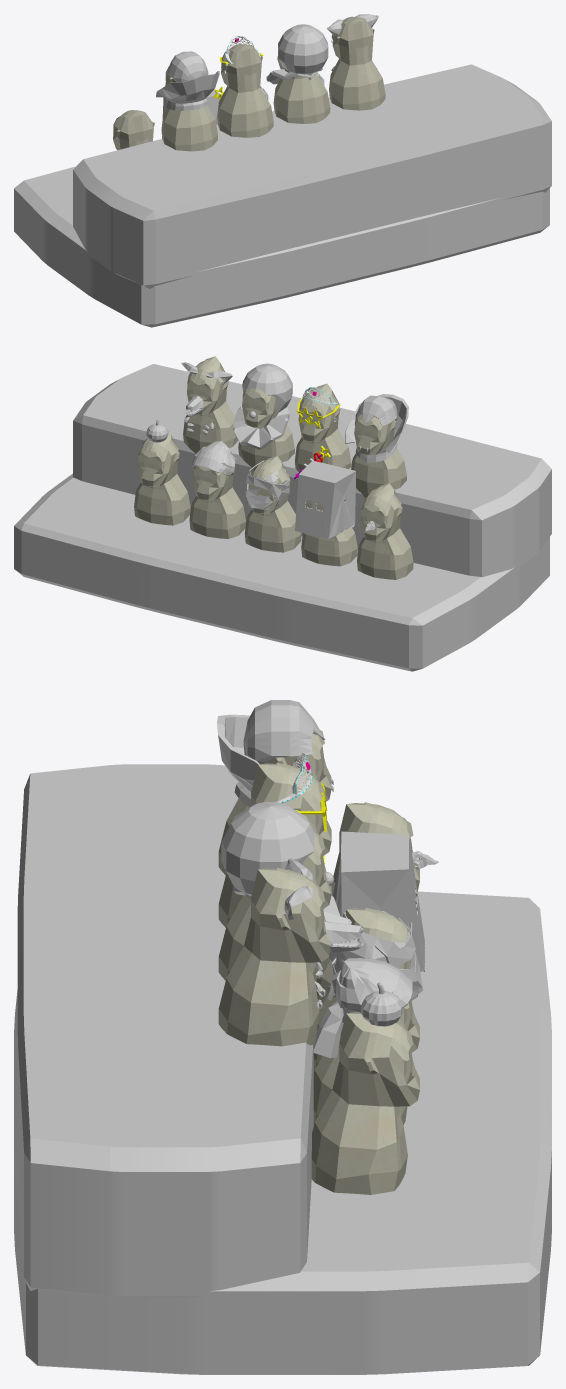
Rendered from GorillaTagHalloweenCosmetics2021.fbx.
3 views of the same model, one above another, from view 1: azimuth 30°, elevation 25°; view 2: azimuth 150°, elevation 25°; view 3: azimuth 270°, elevation 25° (orthographic). The views are drawn at different scales.
Parts seen in each view (by area): view 1: huttable__1_, huttable, headmodeltorso__2_, headmodeltorso, headmodeltorso__1_, headmodeltorso__3_, clownwig, vampirecollar, headmodeltorso__7_, vampirewig; view 2: huttable, huttable__1_, headmodeltorso__7_, paperbag, headmodeltorso__8_, headmodeltorso, headmodeltorso__4_, headmodeltorso__5_, headmodeltorso__2_, headmodeltorso__3_, headmodeltorso__1_, headmodeltorso__6_ (+6 smaller); view 3: huttable__1_, huttable, headmodeltorso__8_, headmodeltorso, paperbag, clownwig, piratebandana, vampirewig, headmodeltorso__2_, headmodeltorso__1_, mummywrap, vampirecollar (+6 smaller).
Part boxes in pixels (<box>): huttable__1_: <box>73,64,551,288</box>; huttable: <box>14,166,549,327</box>; headmodeltorso__2_: <box>217,44,273,137</box>; headmodeltorso: <box>329,16,385,110</box>; headmodeltorso__1_: <box>273,46,330,123</box>; headmodeltorso__3_: <box>161,66,217,151</box>; clownwig: <box>278,24,328,76</box>; vampirecollar: <box>156,71,219,110</box>; headmodeltorso__7_: <box>113,110,154,150</box>; vampirewig: <box>166,51,208,82</box>; huttable: <box>14,473,549,671</box>; huttable__1_: <box>73,364,551,577</box>; headmodeltorso__7_: <box>357,483,413,579</box>; paperbag: <box>295,460,355,538</box>; headmodeltorso__8_: <box>134,431,190,525</box>; headmodeltorso: <box>183,356,238,453</box>; headmodeltorso__4_: <box>189,464,245,538</box>; headmodeltorso__5_: <box>244,456,301,552</box>; headmodeltorso__2_: <box>295,383,351,472</box>; headmodeltorso__3_: <box>351,414,406,497</box>; headmodeltorso__1_: <box>238,388,294,467</box>; headmodeltorso__6_: <box>301,494,357,566</box>; huttable__1_: <box>17,764,313,1298</box>; huttable: <box>14,891,551,1374</box>; headmodeltorso__8_: <box>311,1012,419,1194</box>; headmodeltorso: <box>218,867,331,1047</box>; paperbag: <box>328,831,424,971</box>; clownwig: <box>221,802,314,895</box>; piratebandana: <box>313,958,412,1058</box>; vampirewig: <box>243,700,325,763</box>; headmodeltorso__2_: <box>218,762,331,927</box>; headmodeltorso__1_: <box>218,830,331,985</box>; mummywrap: <box>331,908,423,998</box>; vampirecollar: <box>217,714,259,807</box>.
Size of the model in its own units: 317 by 145 by 180.
